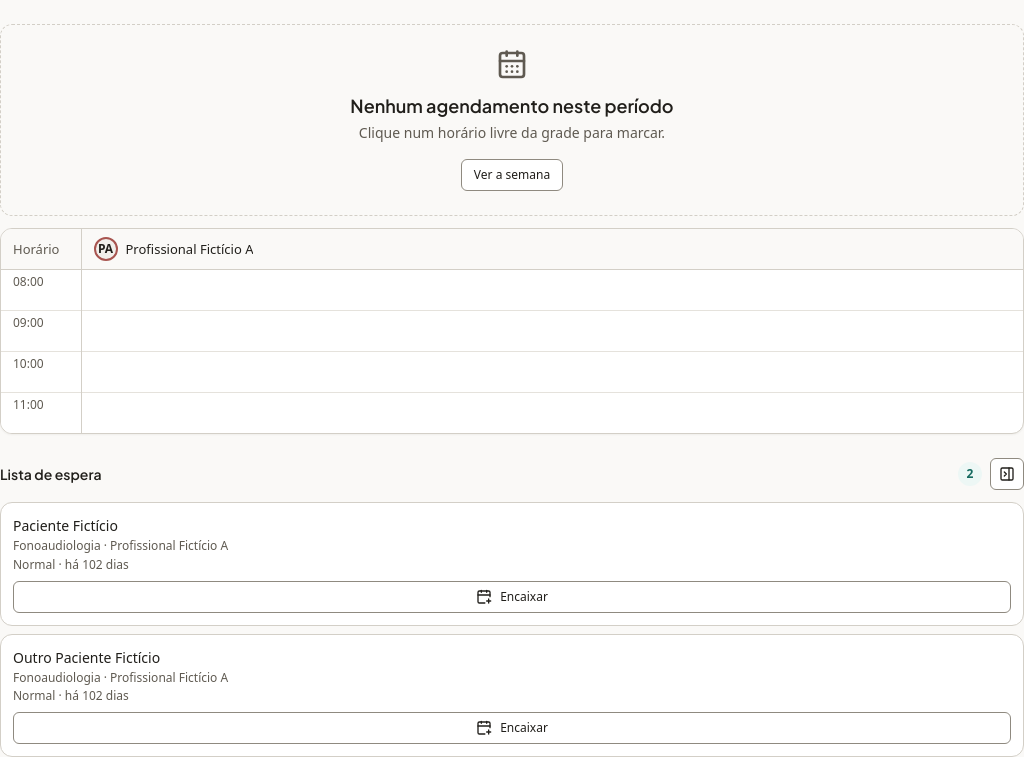
Test: Agenda — o painel da fila recolhe › deve manter o contador à vista no trilho — fila que some ninguém olha
This screenshot has width=1024, height=757.
(page scrolled)
Expected: the text "Paciente Fictício" is shown, [13,516,118,535]
What coordinates should you click on to do the following:
click the button named "Recolher a lista de espera"
I would click on:
 (1007, 474)
Its box is [990,458,1023,490].
(page scrolled)
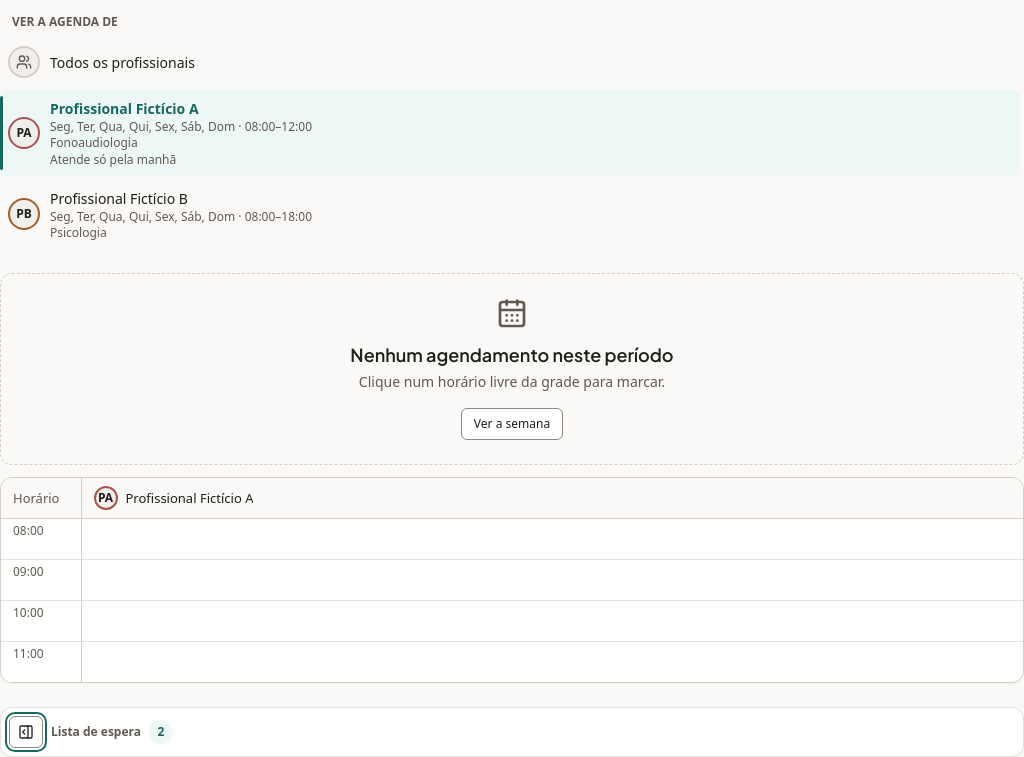
Expected: the text "2" is shown, [149,720,173,744]
Expected: the text "Paciente Fictício" is gone
Expected: the text "Outro Paciente Fictício" is gone
